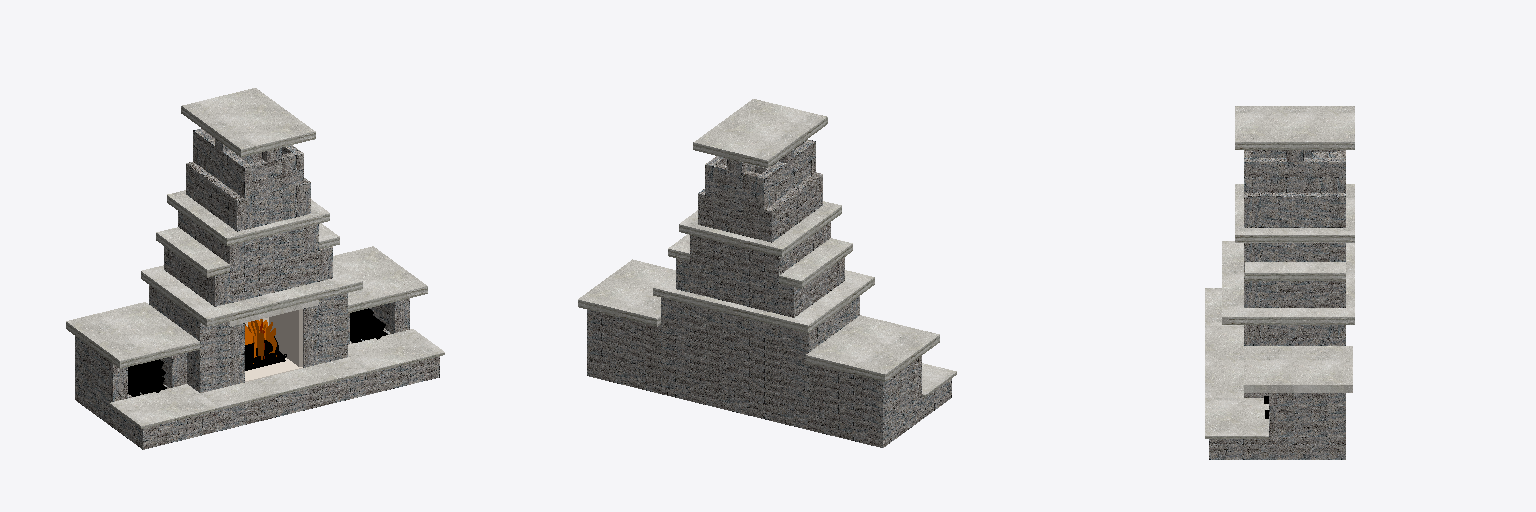
The picture shows the model from 3 angles: view 1: azimuth 30°, elevation 25°; view 2: azimuth 150°, elevation 25°; view 3: azimuth 270°, elevation 25°; orthographic projection.
Visible parts, largest first — view 1: Mesh10RumbleWall10Group4Group1Model1; view 2: Mesh10RumbleWall10Group4Group1Model1; view 3: Mesh10RumbleWall10Group4Group1Model1.
Part boxes in pixels (x1,y1,x2,y2): Mesh10RumbleWall10Group4Group1Model1: (66,88,444,449); Mesh10RumbleWall10Group4Group1Model1: (578,99,956,447); Mesh10RumbleWall10Group4Group1Model1: (1205,106,1354,459).
Bounding box in the file's own units: 2.86 × 2.34 × 1.21.
13 materials, 4 textured.